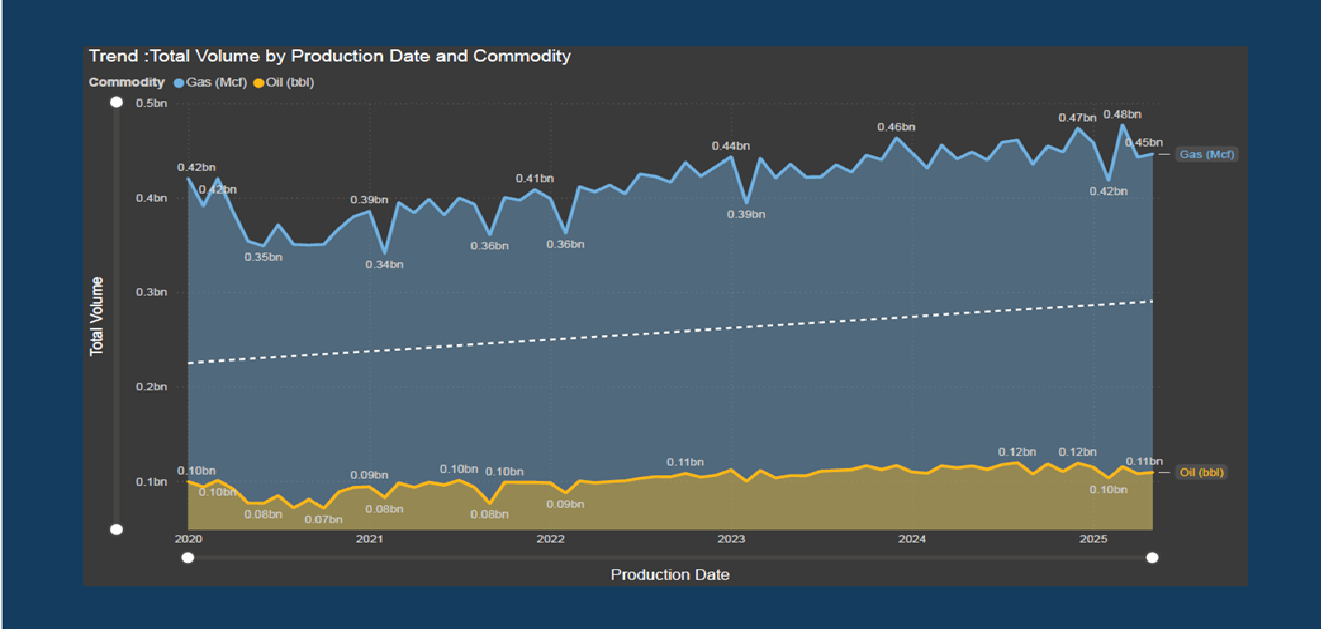

The page's visual inventory and layout, read from the dashboard file:
{"tool":"powerbi","page":{"name":"Forecast","canvas":[1280,720],"ordinal":1},"visuals":[{"type":"lineChart","title":"Trend :Total Volume by Production Date and Commodity","fields":{"Y":["OGORBcsv.Total Volume"],"Series":["OGORBcsv.Commodity"],"Category":["OGORBcsv.Production Date"]},"box":[77.5,52.5,1122.5,615],"z":0}]}

Visuals, with their boxes on the page's 1280x720 design canvas (x1, y1, x2, y2). These are canvas units, not pixel positions in the 1321x629 screenshot, which may show the page scaled, cropped or inside an application window:
"Trend :Total Volume by Production Date and Commodity" lineChart: 78 52 1200 668
